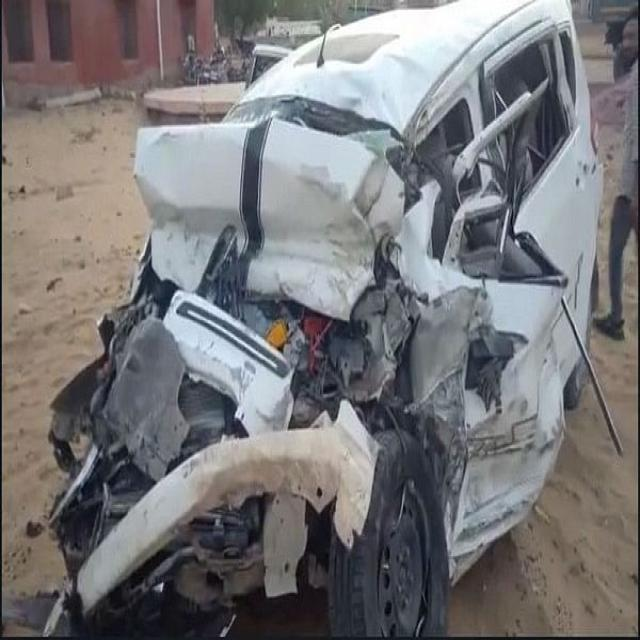accident: (50, 0, 602, 636)
